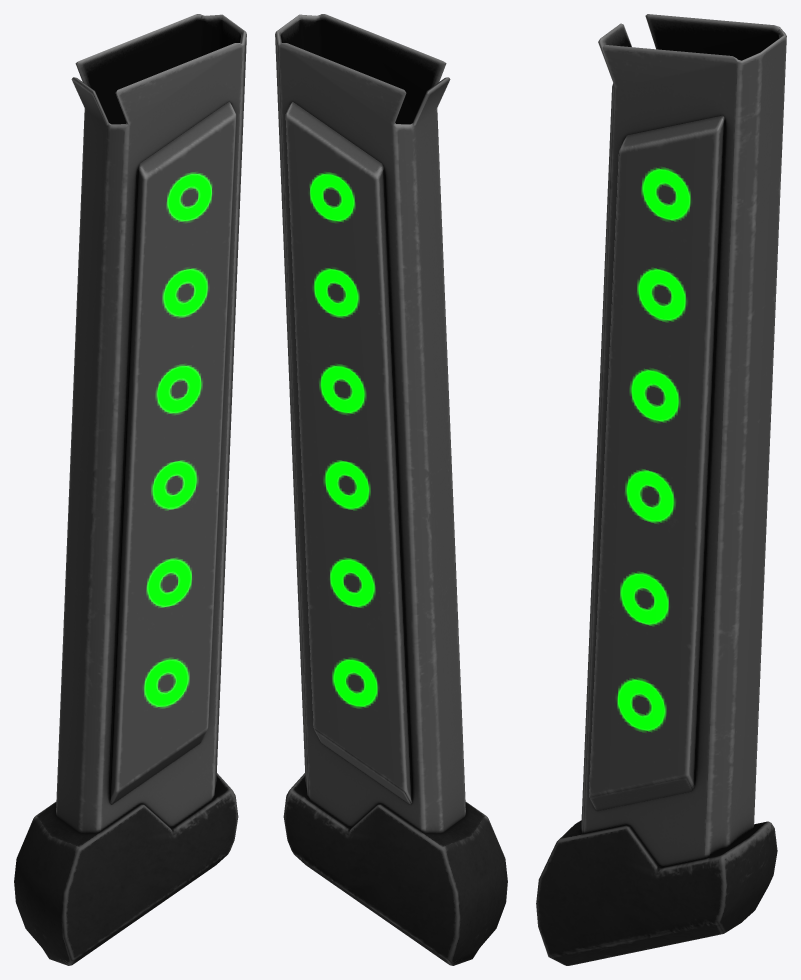
The model's file is SM_MachinePistolMag.fbx.
3 renders of one model, left to right at view 1: azimuth 30°, elevation 25°; view 2: azimuth 150°, elevation 25°; view 3: azimuth 330°, elevation 25°, orthographic. The views are drawn at different scales.
Visible parts, largest first — view 1: Mag_Mesh.001; view 2: Mag_Mesh.001; view 3: Mag_Mesh.001.
Part boxes in pixels (x1,y1,x2,y2): Mag_Mesh.001: [14, 14, 246, 965]; Mag_Mesh.001: [275, 14, 507, 965]; Mag_Mesh.001: [536, 14, 786, 965].
Size of the model in its own units: 5.66 by 2.67 by 24.03.
